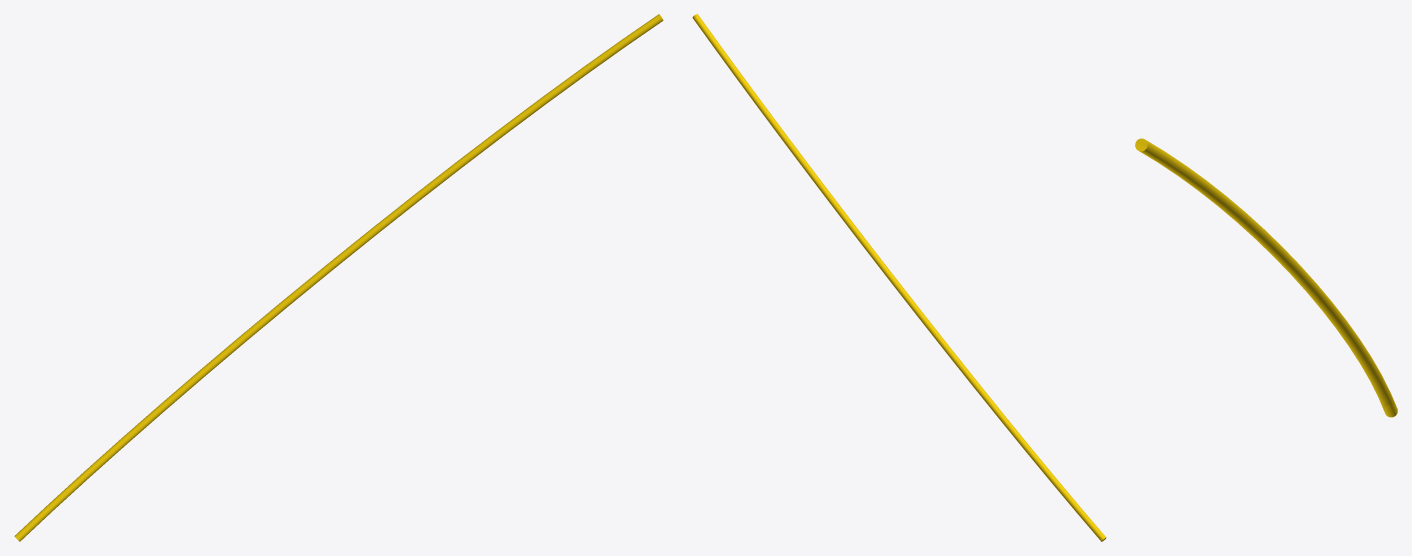
Rendered from Event_421364160_track_1.fbx.
The picture shows the model from 3 angles, left to right: view 1: azimuth 30°, elevation 25°; view 2: azimuth 150°, elevation 25°; view 3: azimuth 270°, elevation 25°; orthographic projection. The views are drawn at different scales.
Visible parts, largest first — view 1: Model; view 2: Model; view 3: Model.
Part boxes in pixels (x1,y1,x2,y2): Model: [14, 14, 663, 541]; Model: [692, 14, 1106, 541]; Model: [1135, 138, 1397, 417].
Size of the model in its own units: 3.32 by 2.46 by 0.7947.
